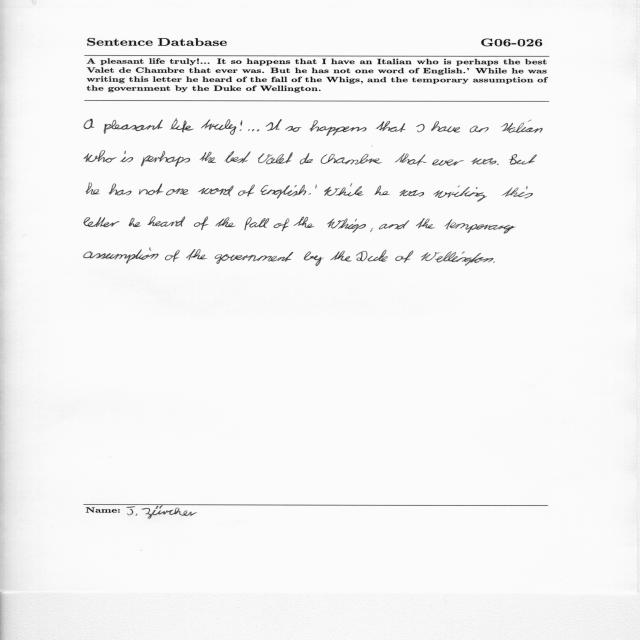word: (84, 248, 159, 264), (421, 251, 493, 266), (445, 219, 515, 234), (215, 252, 293, 264), (433, 185, 487, 202), (310, 120, 367, 136), (104, 120, 163, 134), (141, 151, 190, 167), (321, 154, 382, 165), (261, 185, 307, 199), (327, 218, 366, 233), (201, 119, 237, 135), (501, 120, 543, 133), (324, 183, 364, 196), (84, 150, 117, 163), (258, 152, 293, 164), (395, 153, 427, 166), (501, 186, 533, 198), (356, 250, 388, 262), (148, 217, 186, 227), (83, 217, 120, 227), (198, 186, 234, 196), (431, 121, 460, 133), (170, 119, 194, 133), (376, 121, 406, 132), (244, 217, 269, 230), (225, 151, 251, 163), (509, 154, 537, 165), (304, 251, 323, 266), (139, 184, 164, 195), (379, 221, 409, 230), (109, 184, 131, 196), (293, 217, 314, 228), (186, 249, 207, 260), (432, 159, 464, 166), (330, 251, 352, 261), (396, 251, 414, 263), (215, 218, 236, 228), (416, 218, 435, 229), (274, 218, 290, 231), (265, 119, 282, 131), (238, 185, 255, 197), (200, 152, 217, 163), (194, 217, 208, 230), (165, 250, 180, 262), (400, 190, 425, 197), (166, 189, 189, 196), (374, 186, 390, 196), (86, 183, 100, 194), (471, 158, 496, 164), (120, 151, 133, 162), (300, 153, 313, 164), (470, 126, 489, 133), (129, 218, 141, 227), (84, 119, 94, 129), (286, 126, 302, 132), (416, 124, 425, 132), (240, 120, 243, 131), (248, 129, 259, 132), (371, 228, 374, 232), (315, 185, 317, 189), (308, 193, 311, 195), (493, 261, 495, 263), (497, 164, 499, 165)
